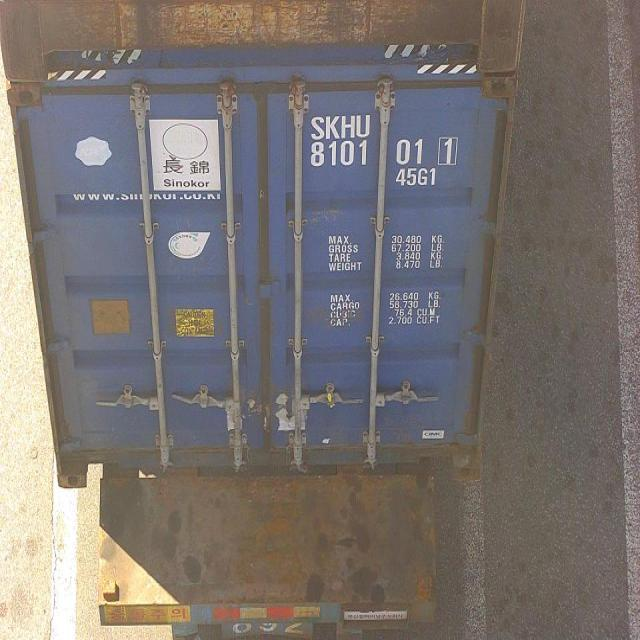ISO: (397, 168, 436, 188)
container_number: (305, 112, 461, 166)
